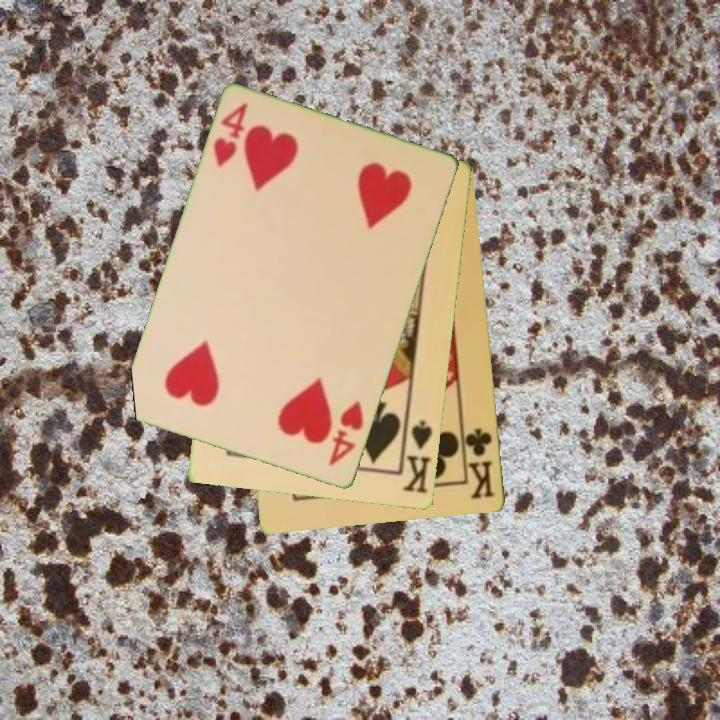4h: (210, 100, 252, 171), (326, 398, 367, 469)
Kc: (460, 421, 498, 503)
Ks: (400, 417, 436, 497)
